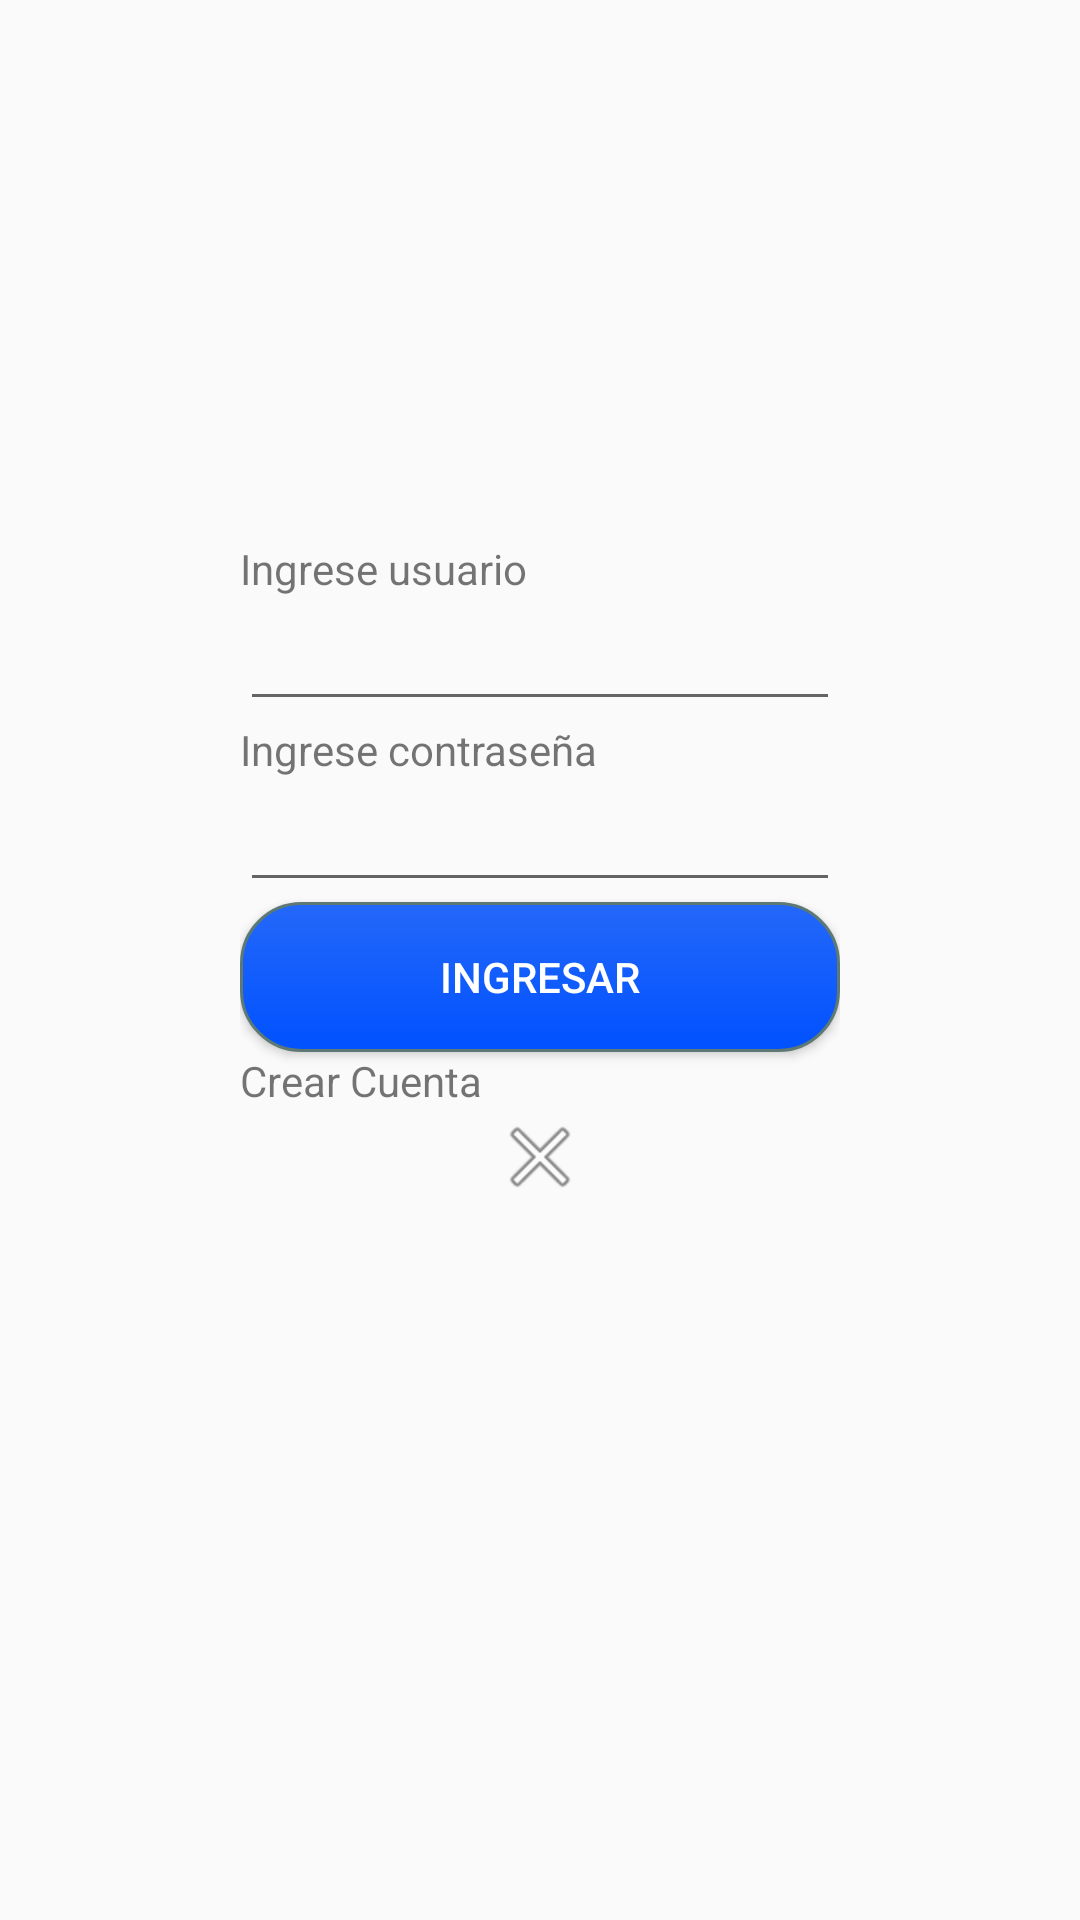

Named icons in this screenshot (1080*1920) and their centers, (x,y):
close clear cancel: (540,1157)
